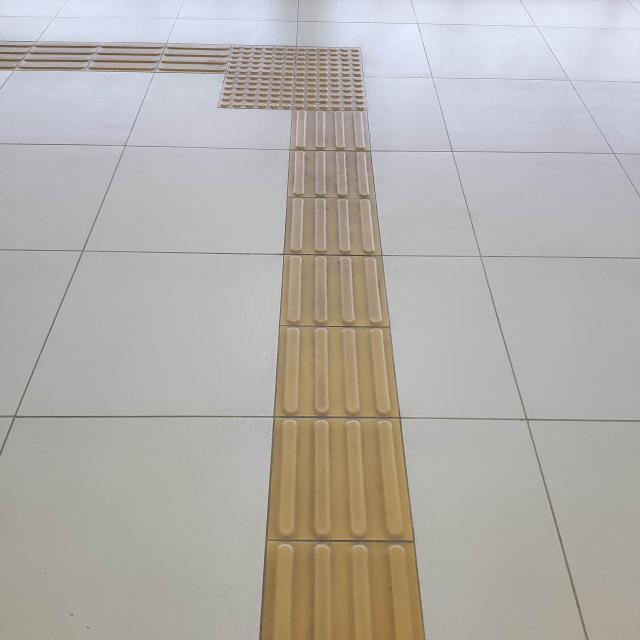kiri: (98, 22, 434, 138)
